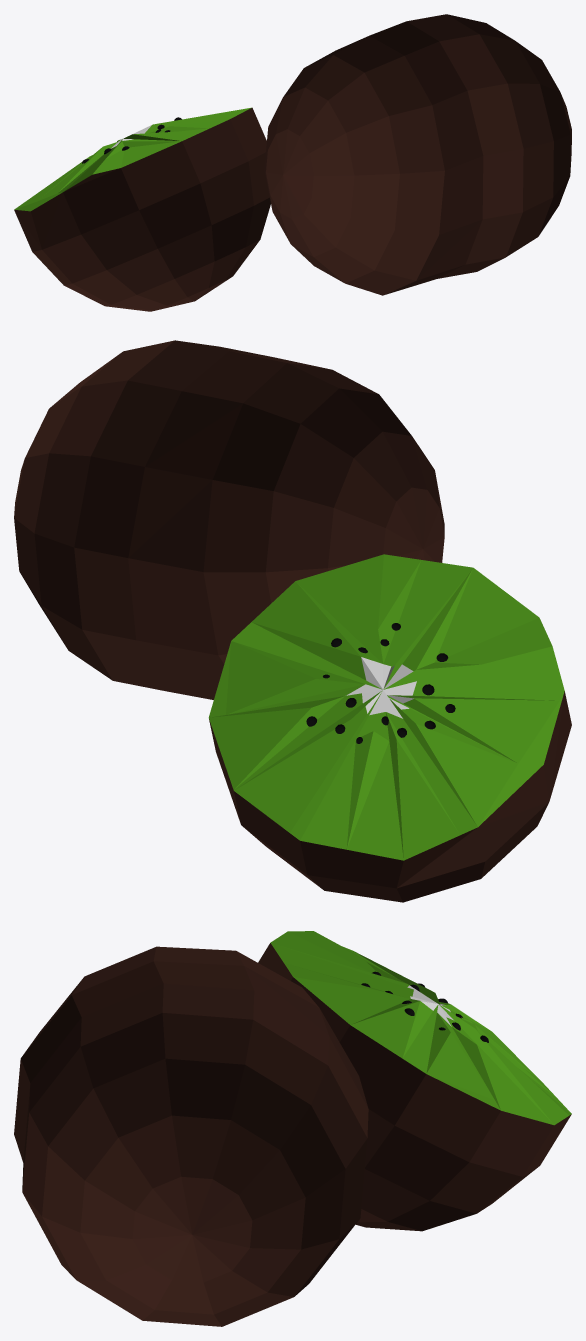
File: Kiwi.obj
3 views of the same model, one above another, from view 1: azimuth 30°, elevation 25°; view 2: azimuth 150°, elevation 25°; view 3: azimuth 270°, elevation 25° (orthographic). The views are drawn at different scales.
Size of the model in its own units: 0.5459 by 0.3167 by 0.438.
